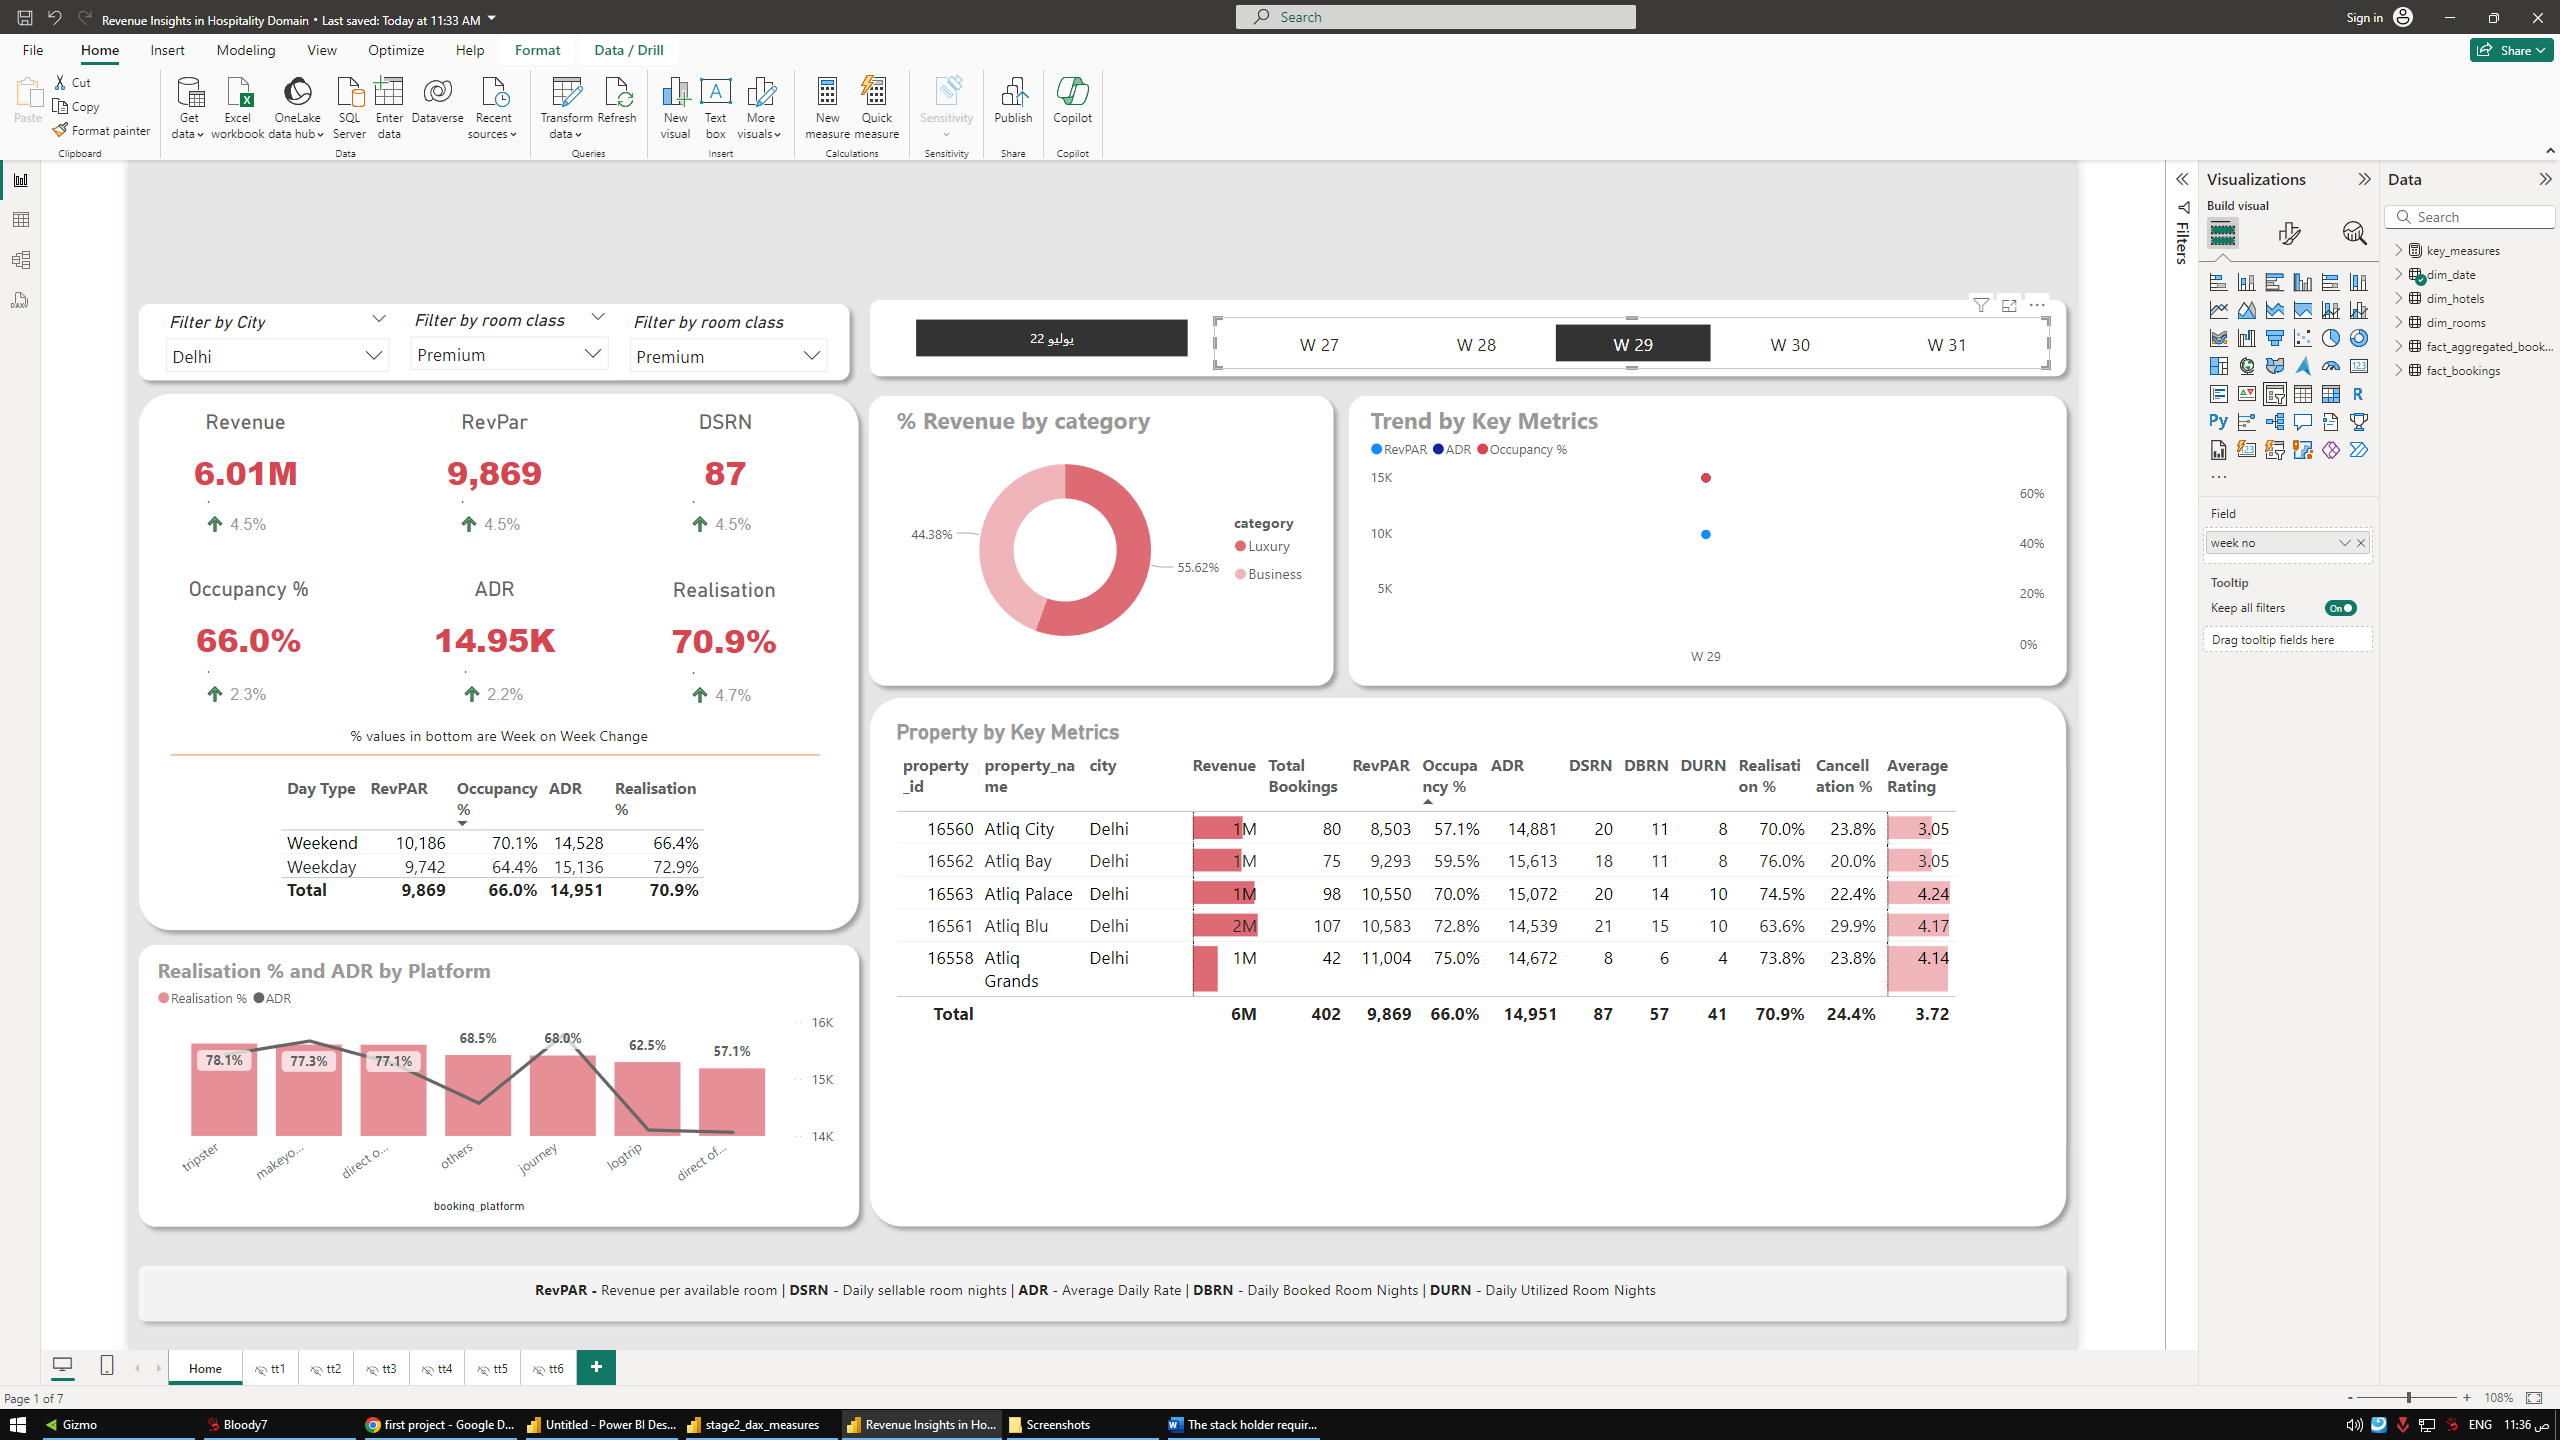

The page's visual inventory and layout, read from the dashboard file:
{"tool":"powerbi","page":{"name":"Page 1","canvas":[1280,720],"ordinal":0},"visuals":[{"type":"tableEx","fields":{"Values":["dim_hotels.property_id","dim_hotels.property_name","key_measures.Revenue","key_measures.Total Bookings","key_measures.RevPAR","key_measures.Occupancy %","key_measures.ADR","key_measures.DSRN","key_measures.DBRN","key_measures.DURN","key_measures.Realisation %","key_measures.Cancellation %"]},"box":[277.8,248.5,987.6,446.6],"z":0},{"type":"advancedSlicerVisual","title":"filter by city ","fields":{"Values":["dim_hotels.city"]},"box":[0,113.9,478.8,62.1],"z":1000},{"type":"advancedSlicerVisual","title":"filter by room type","fields":{"Values":["dim_rooms.room_class"]},"box":[0,51.2,555.5,69.4],"z":2000},{"type":"advancedSlicerVisual","fields":{"Values":["dim_date.mmm yy"]},"box":[552.5,64.6,238.8,56],"z":3000},{"type":"advancedSlicerVisual","fields":{"Values":["dim_date.week no"]},"box":[0,0,1104.8,51],"z":4000},{"type":"card","title":"Revenue","fields":{"Values":["key_measures.Revenue"]},"box":[0,176.5,127.4,87.9],"z":5000},{"type":"tableEx","fields":{"Values":["key_measures.Revenue WoW change %"]},"box":[15.9,248.5,107,59.9],"z":6000},{"type":"donutChart","fields":{"Category":["dim_hotels.category"],"Y":["key_measures.Occupancy %"]},"box":[997.1,52.9,257.4,182.2],"z":6001}]}

Visuals, with their boxes on the page's 1280x720 design canvas (x1, y1, x2, y2). These are canvas units, not pixel positions in the 2560x1440 screenshot, which may show the page scaled, cropped or inside an application window:
tableEx - dim_hotels.property_id x dim_hotels.property_name: {"left": 278, "top": 248, "right": 1265, "bottom": 695}
"filter by city " advancedSlicerVisual: {"left": 0, "top": 114, "right": 479, "bottom": 176}
"filter by room type" advancedSlicerVisual: {"left": 0, "top": 51, "right": 556, "bottom": 121}
advancedSlicerVisual - dim_date.mmm yy: {"left": 552, "top": 65, "right": 791, "bottom": 121}
advancedSlicerVisual - dim_date.week no: {"left": 0, "top": 0, "right": 1105, "bottom": 51}
"Revenue" card: {"left": 0, "top": 176, "right": 127, "bottom": 264}
tableEx - key_measures.Revenue WoW change %: {"left": 16, "top": 248, "right": 123, "bottom": 308}
donutChart - dim_hotels.category x key_measures.Occupancy %: {"left": 997, "top": 53, "right": 1254, "bottom": 235}
